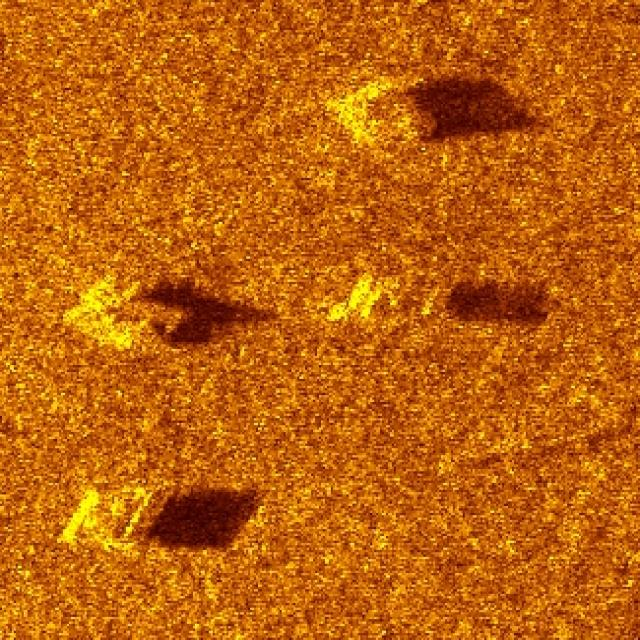other: (284, 233, 468, 363), (43, 441, 197, 594), (296, 62, 492, 178), (39, 234, 185, 382)
